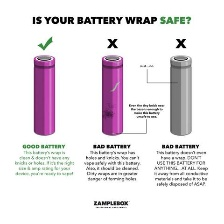battery: (29, 52, 56, 138), (168, 53, 194, 136), (100, 53, 123, 137)
